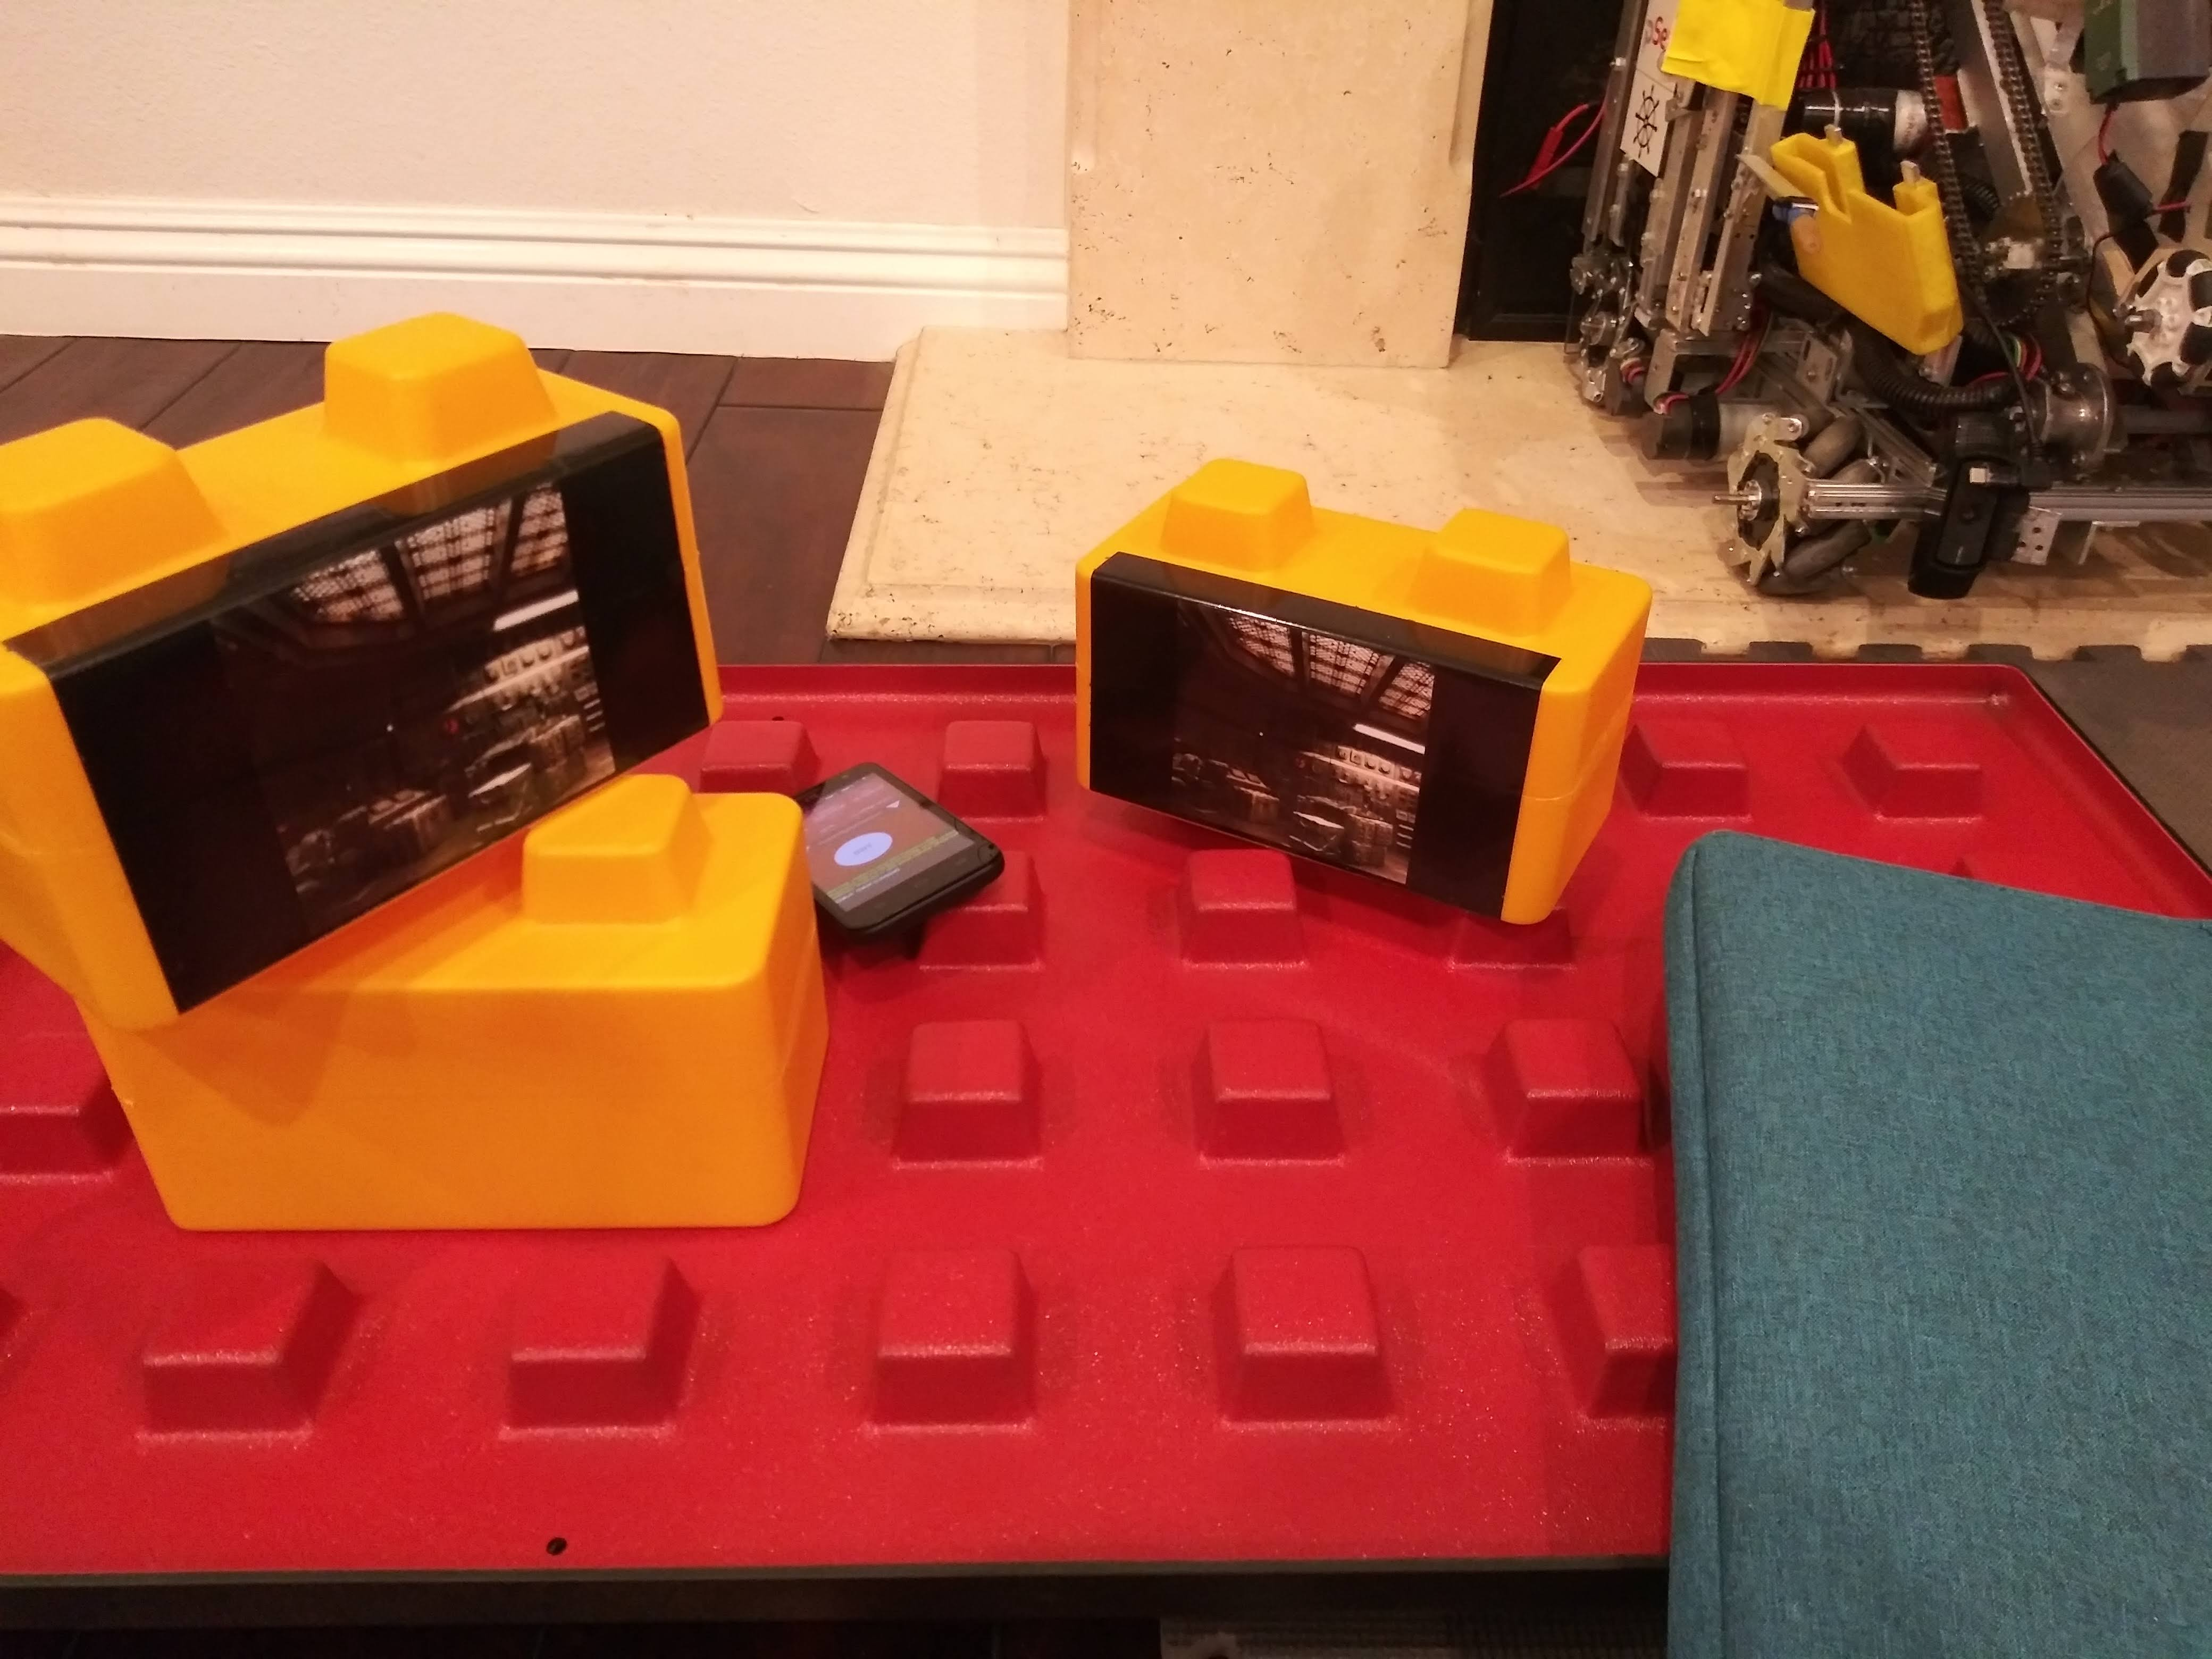skystone: (30, 385, 714, 836), (1076, 484, 1618, 927)
stone: (122, 964, 838, 1281)
